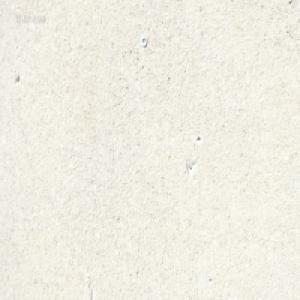Washer: (141, 36, 147, 47)
